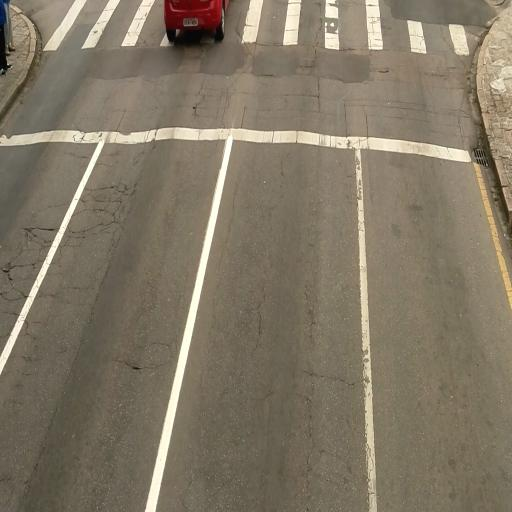car: (162, 0, 231, 45)
